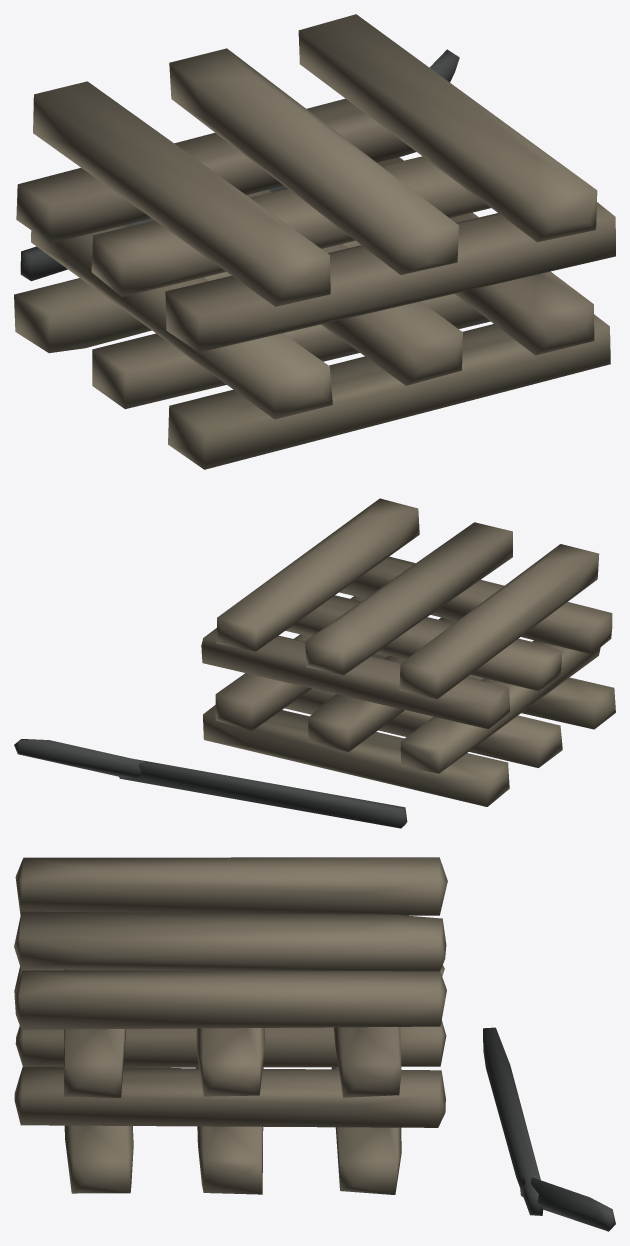
The model's file is sleeper_stack_a_lod2.glb.
3 views of the same model, one above another, from view 1: azimuth 30°, elevation 25°; view 2: azimuth 150°, elevation 25°; view 3: azimuth 270°, elevation 25° (orthographic). The views are drawn at different scales.
Parts seen in each view (by area): view 1: Surface.001; view 2: Surface.001; view 3: Surface.001.
Boxes of the visible parts, x1,y1,x2,y2 form: Surface.001: [14, 14, 615, 469]; Surface.001: [14, 498, 615, 828]; Surface.001: [14, 857, 615, 1231].
Bounding box in the file's own units: 2.16 × 0.7904 × 2.24.
